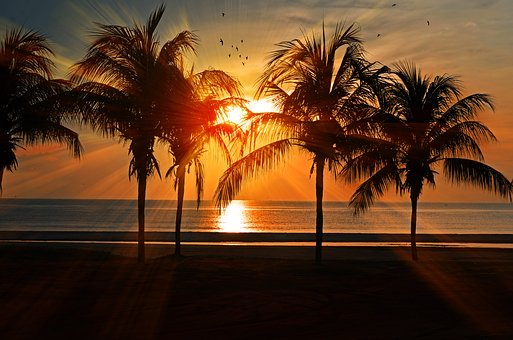sea: (6, 198, 513, 333)
tree: (90, 27, 226, 251), (88, 25, 224, 249), (253, 30, 389, 254), (360, 37, 496, 261)
